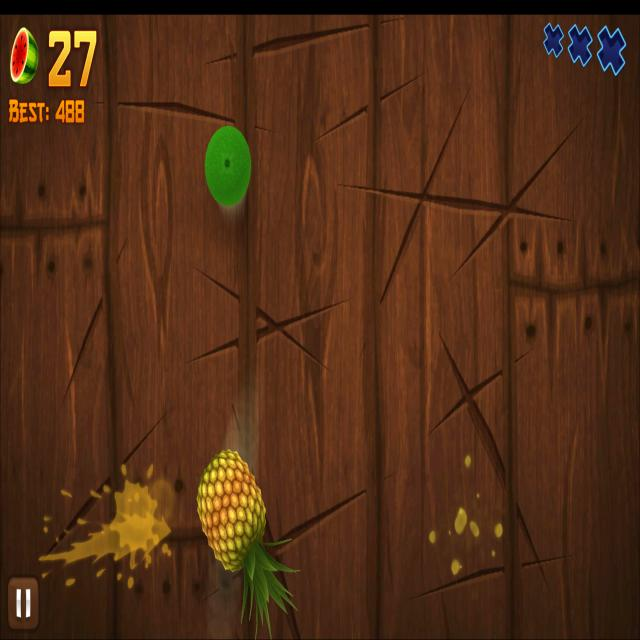fruit: (196, 448, 268, 573), (204, 125, 252, 206)
